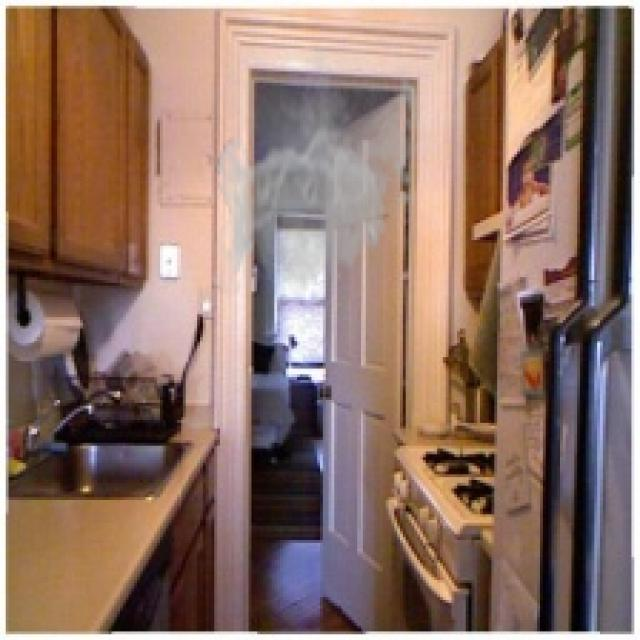smoke: (211, 46, 426, 300)
